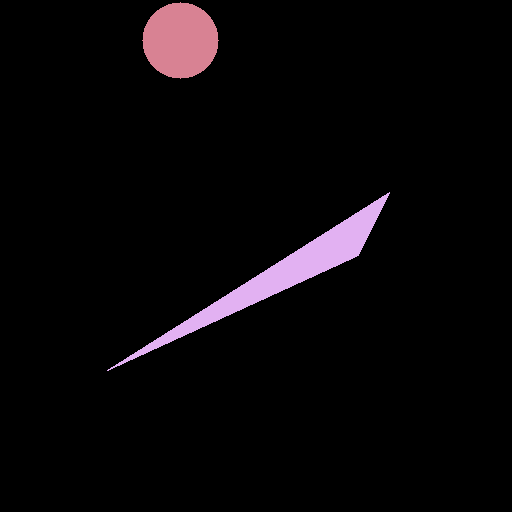circle: (142, 2, 218, 78)
triangle: (107, 192, 389, 370)
